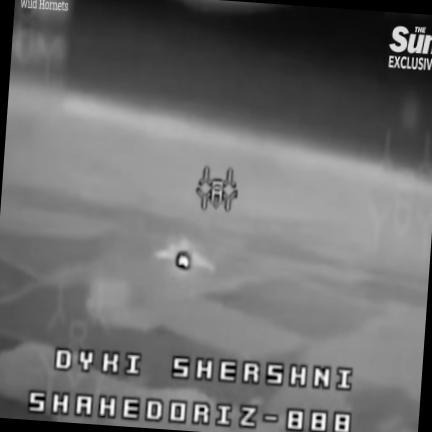Shahed: (155, 238, 215, 271)
